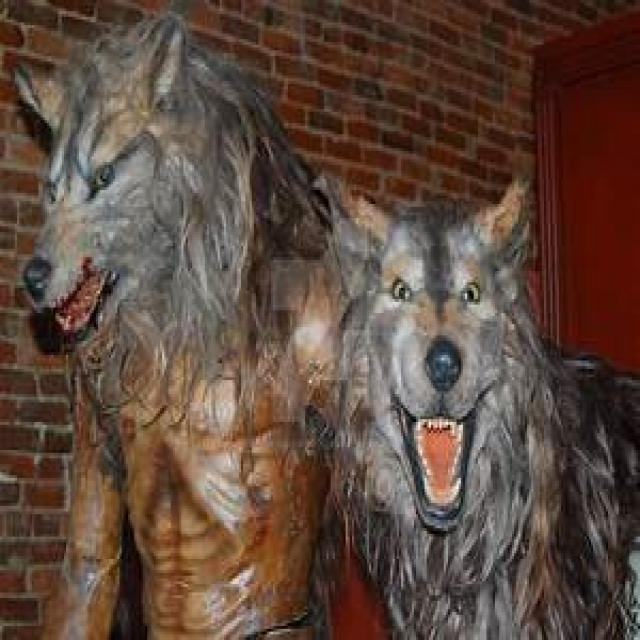dog: (11, 0, 371, 637), (320, 173, 638, 637)
